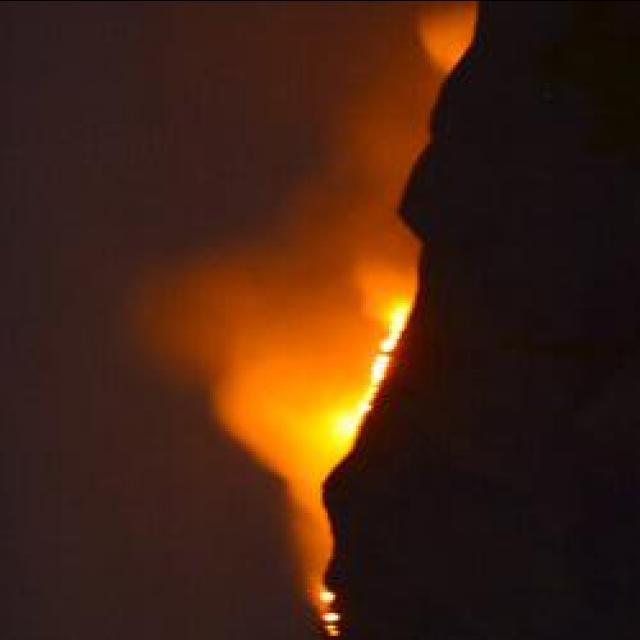fire: (412, 9, 468, 59), (378, 326, 394, 384), (337, 406, 362, 432)
smoke: (113, 225, 370, 393), (208, 377, 308, 475), (286, 490, 336, 582)
